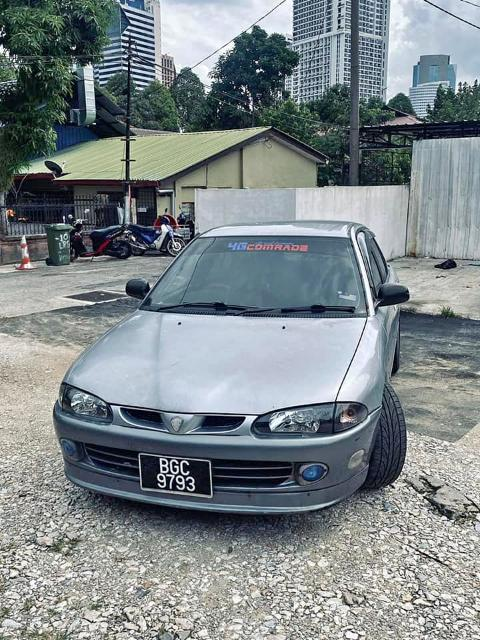License_Plate: (143, 454, 211, 497)
car: (56, 217, 416, 528)
